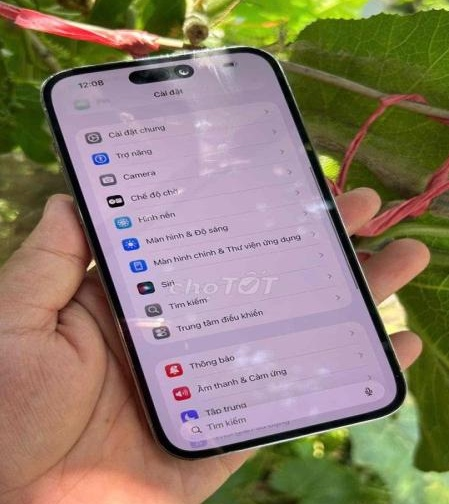scratch: (35, 55, 155, 85)
